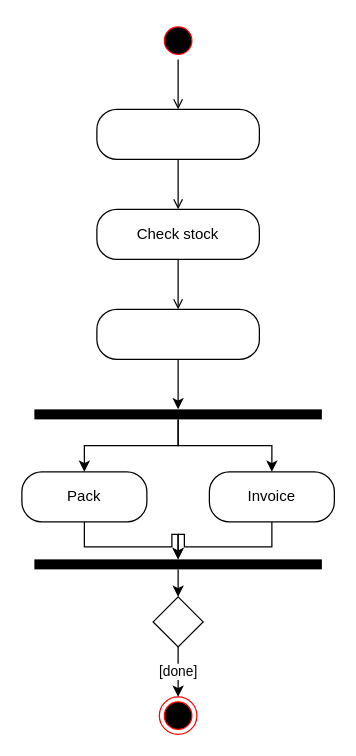
Image size: 356x756. Some labels were removed from this diagram. Each missing label, with the centre of its shape:
Receive order: point (177, 133)
Ship: point (177, 333)
